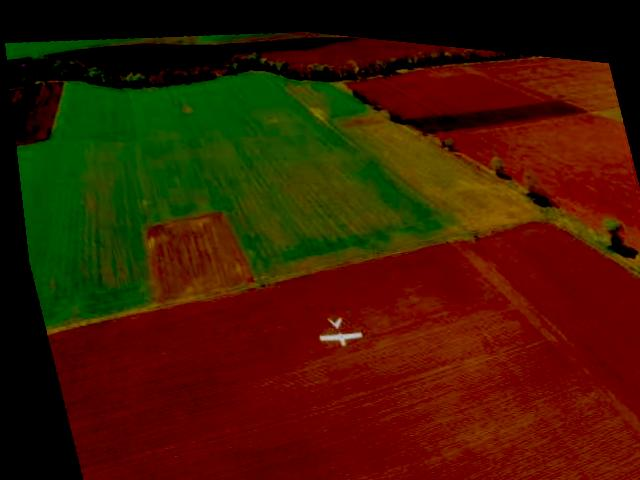uav: (300, 297, 362, 352)
